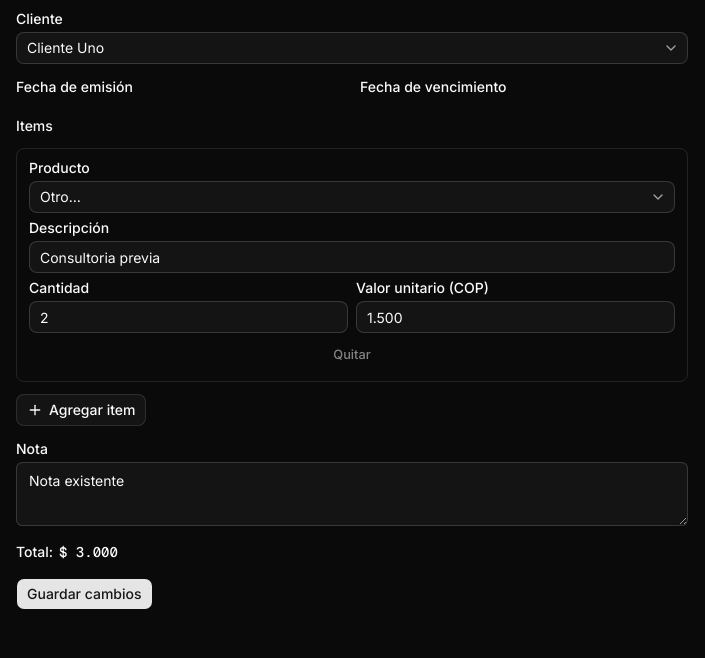
Scenario: InvoiceFormContent › edit mode — below-paid-total warning › re-enables submit and hides the warning once the live total is raised back to at least paidAmount
Replace the text in the field labelled "Valor unitario (COP)" with "1000" at point(516, 317), box top-left (356, 301), bottom-right (675, 333)
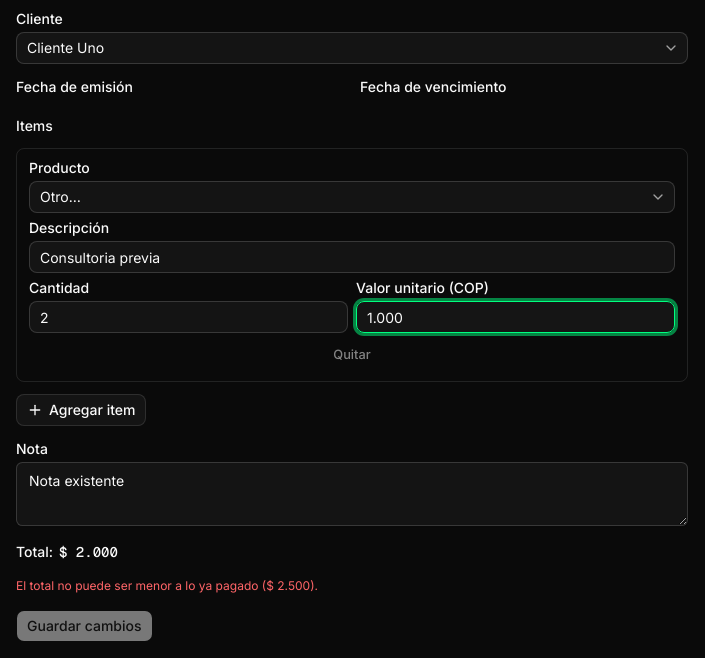
Result: the text "El total no puede ser menor a lo ya pagado ($ 2.500)." is shown at top-left (16, 578), bottom-right (318, 593)
Replace the text in the field labelled "Valor unitario (COP)" with "1500" at point(516, 317), box top-left (356, 301), bottom-right (675, 333)
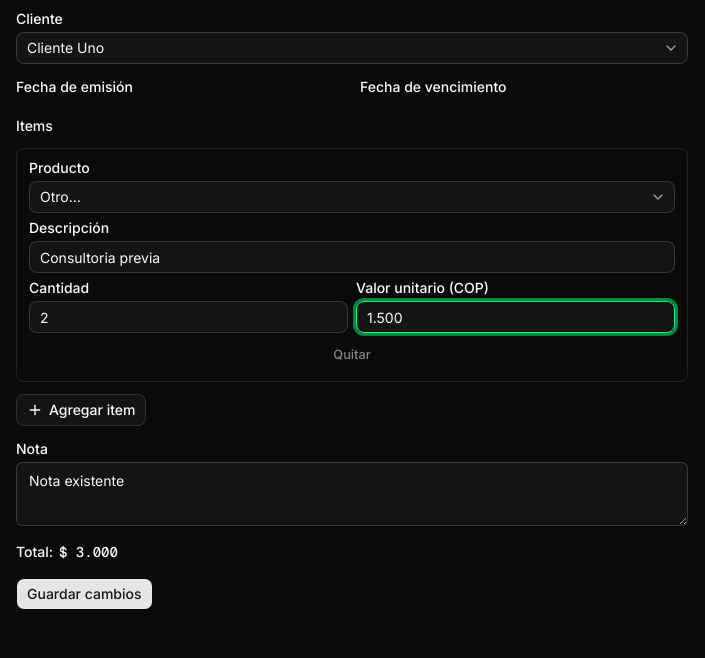
Result: the text "no puede ser menor a lo ya pagado" is gone
Result: the button "Guardar cambios" is enabled at top-left (16, 578), bottom-right (152, 610)
